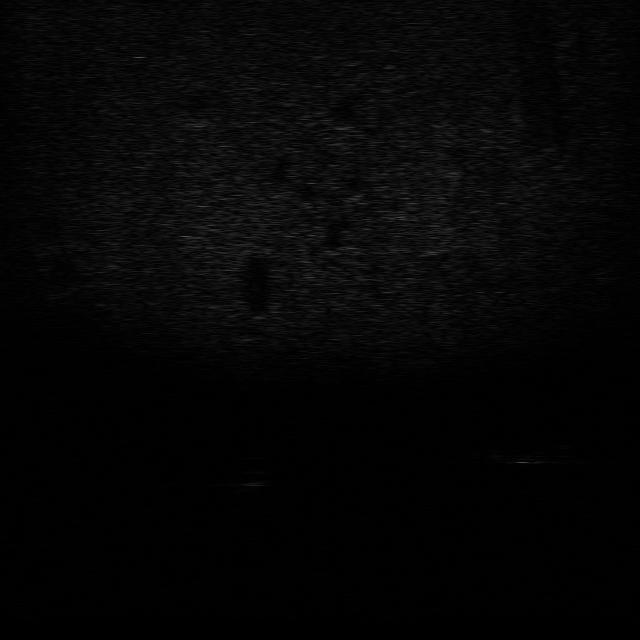ball: (224, 466, 278, 489)
human body: (481, 435, 580, 467)
